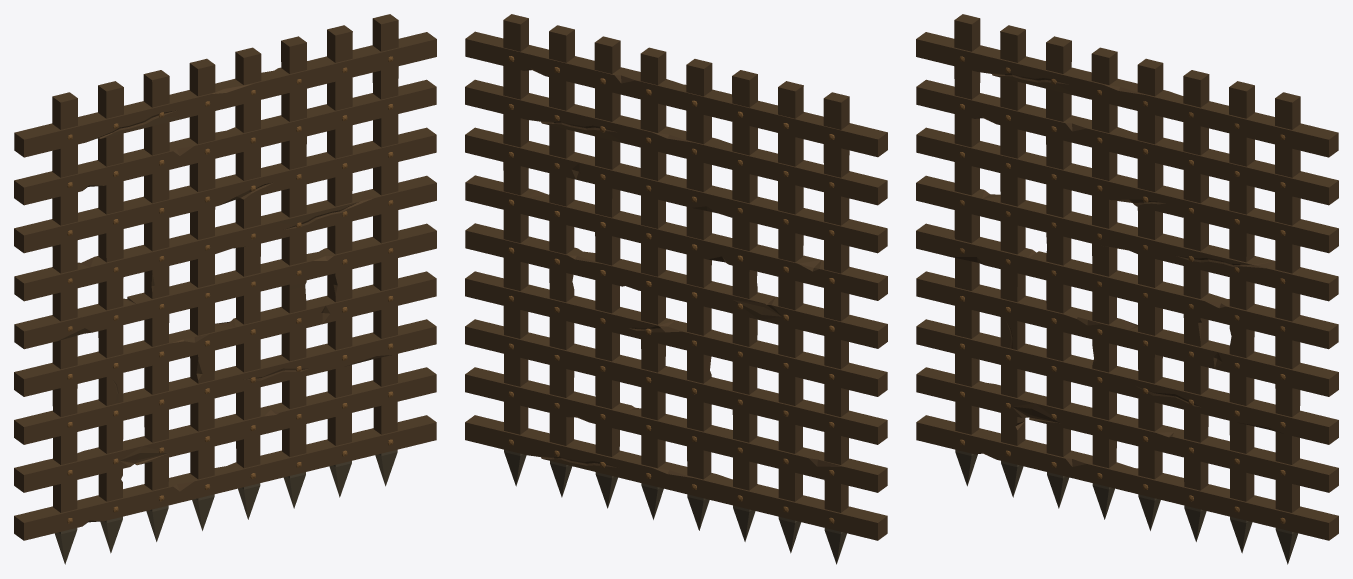
Rendered from wood_grate.gltf.
3 views of the same model, side by side, from view 1: azimuth 30°, elevation 25°; view 2: azimuth 150°, elevation 25°; view 3: azimuth 330°, elevation 25° (orthographic).
Parts seen in each view (by area): view 1: Portcullis_Wood; view 2: Portcullis_Wood; view 3: Portcullis_Wood.
Part boxes in pixels (bbox=[...]): Portcullis_Wood: bbox=[14, 14, 436, 564]; Portcullis_Wood: bbox=[465, 14, 887, 564]; Portcullis_Wood: bbox=[916, 14, 1338, 564].
Size of the model in its own units: 3.61 by 3.9 by 0.1758.
2 materials, 2 textured.
